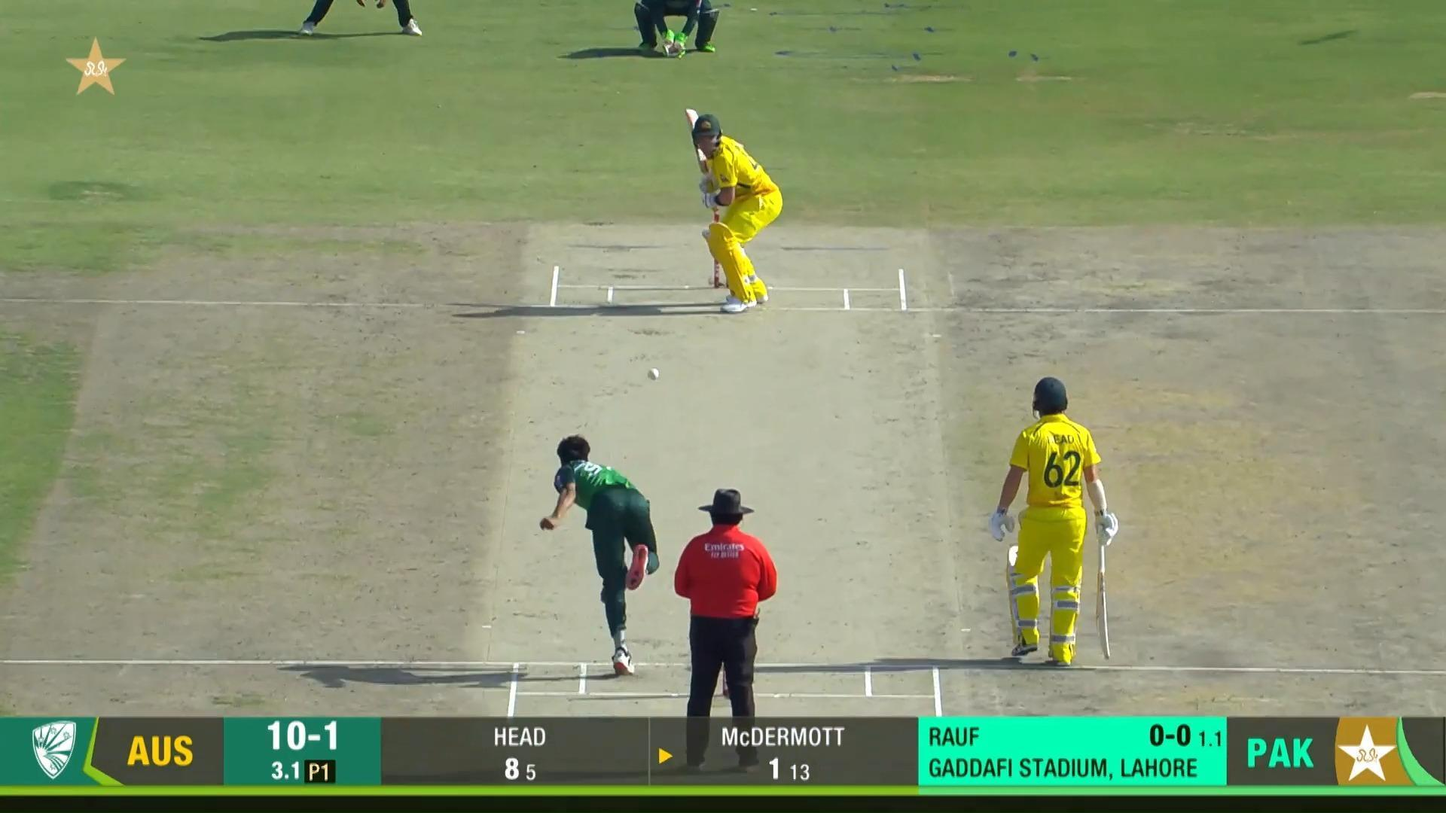BM 1: (680, 105, 786, 316)
BO: (537, 433, 661, 678)
